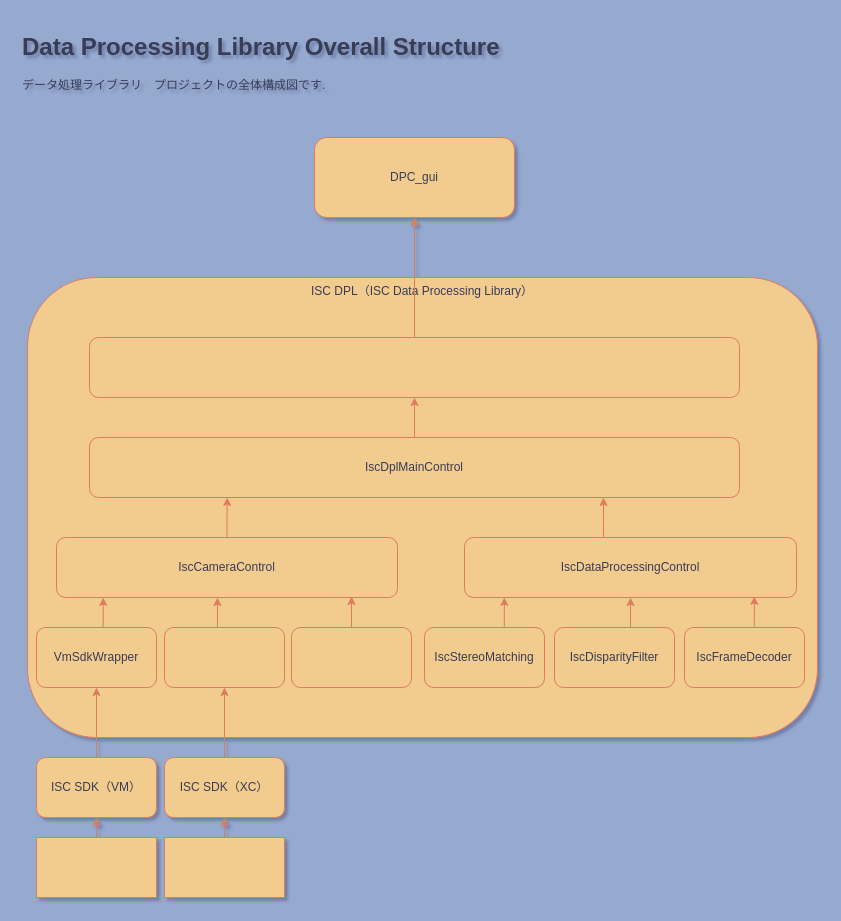
This 841x921 diagram has some shape labels left out. The box of each missing label's shape, as (x1, y1, x2, y2) in pixels:
IscDpl: (88, 336, 740, 398)
SelfCalibration: (290, 626, 412, 688)
XcSdkWrapper: (164, 626, 284, 688)
カメラ ISC100VM: (36, 836, 156, 898)
カメラ ISC100XC: (164, 836, 284, 898)
